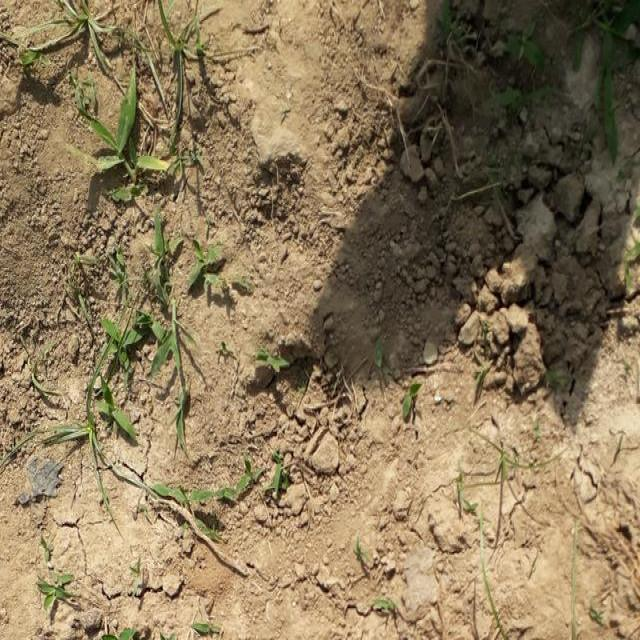weed: (92, 68, 197, 467)
